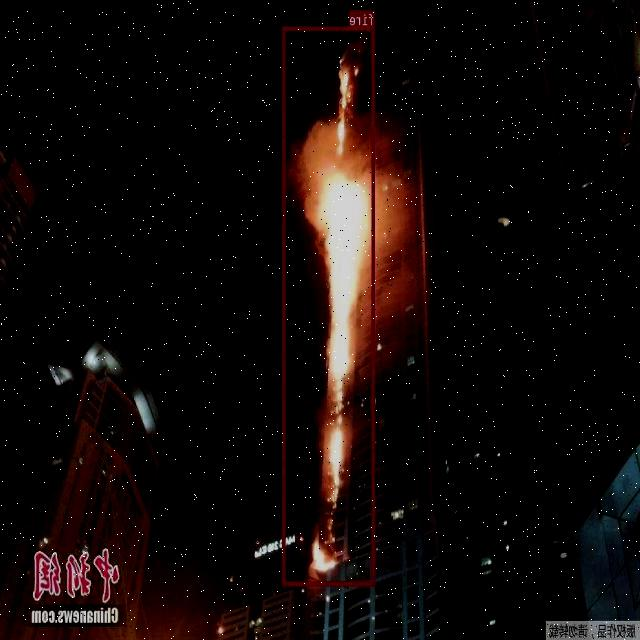fire: (283, 26, 375, 586)
